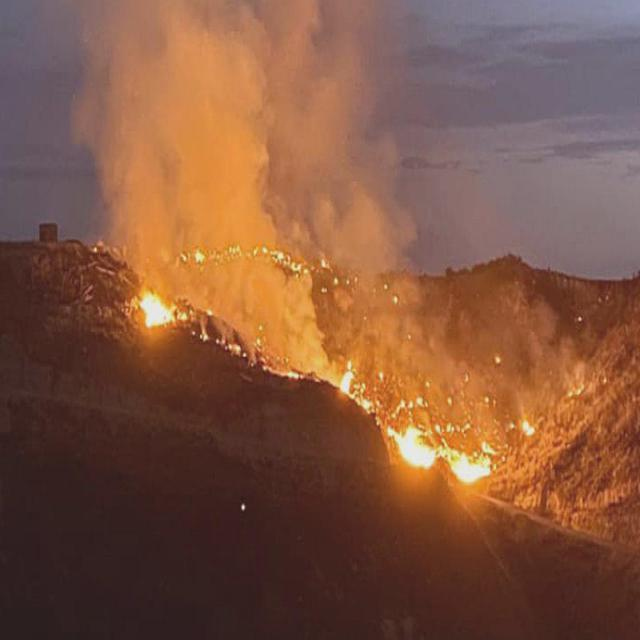Fire: (389, 397, 497, 486), (137, 291, 190, 332), (254, 244, 312, 277), (341, 368, 374, 413), (267, 364, 300, 381), (226, 243, 244, 259), (568, 383, 584, 401), (522, 417, 535, 435), (193, 245, 204, 266), (197, 327, 210, 342), (230, 342, 242, 355), (319, 256, 332, 267), (180, 249, 187, 263), (494, 355, 499, 364)
